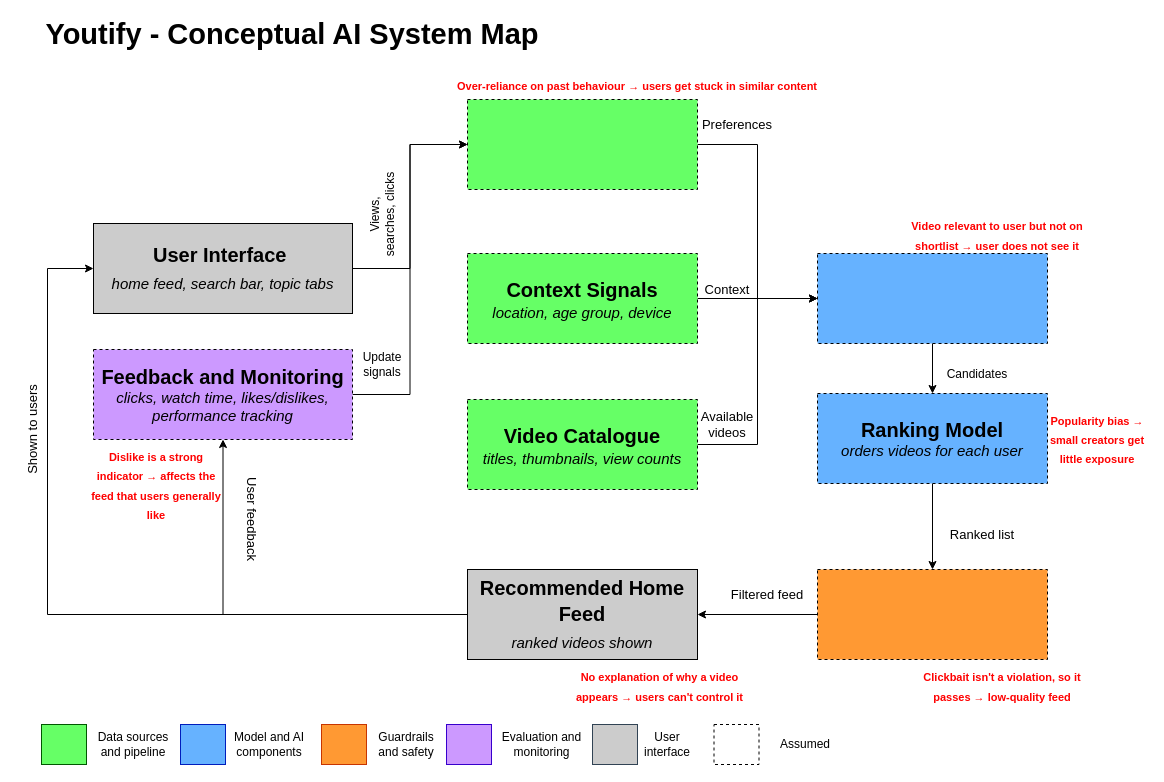
Some shapes in this 1164 by 782 pixel diagram are drawn without their labels. The shapes that lost their labels are listed below. From the top down, each one's centre as x and y in pixels, then its label:
point (582, 144): User Activity Data watch history, subscriptions, searches, clicks
point (932, 298): Candidate Generation shortlists videos from millions
point (932, 614): Content Policy Filter removes extreme or illegal content
